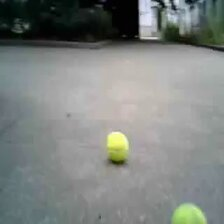tennis: (169, 202, 208, 224), (106, 130, 129, 160)
